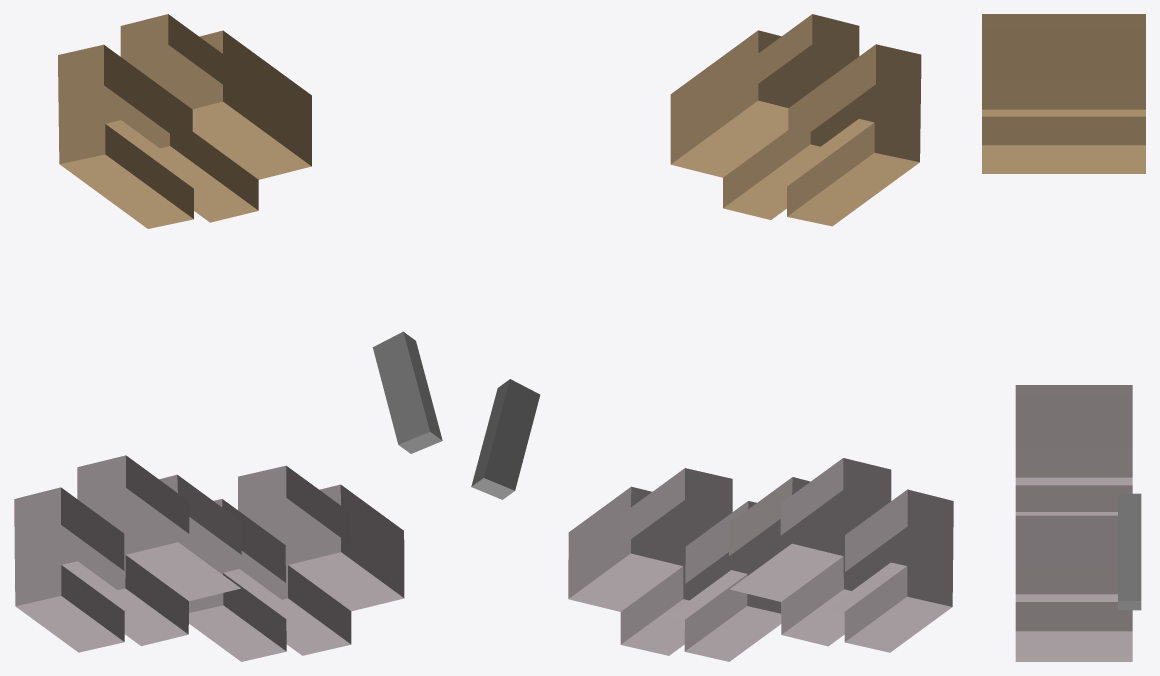
3 views of the same model, side by side, from view 1: azimuth 30°, elevation 25°; view 2: azimuth 150°, elevation 25°; view 3: azimuth 270°, elevation 25° (orthographic). The views are drawn at different scales.
Parts seen in each view (by area): view 1: 0_3_0_1_1_2_1_3; view 2: 0_3_0_1_1_2_1_3; view 3: 0_3_0_1_1_2_1_3.
Boxes of the visible parts, <box> form: 0_3_0_1_1_2_1_3: <box>14,14,442,661</box>; 0_3_0_1_1_2_1_3: <box>471,14,953,661</box>; 0_3_0_1_1_2_1_3: <box>982,14,1145,661</box>.
Bounding box in the file's own units: 57.5 × 79.25 × 21.
